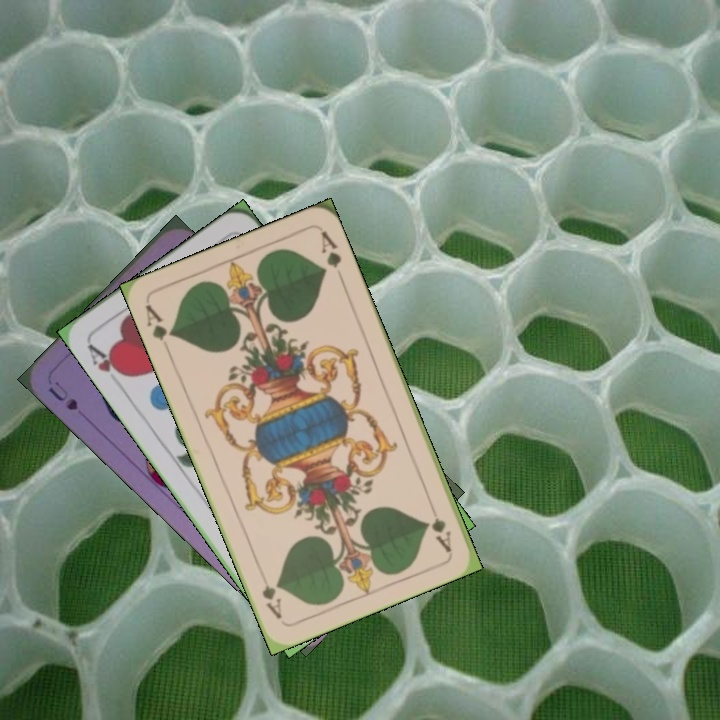GA: (424, 497, 454, 555), (141, 300, 177, 344)
HA: (83, 339, 131, 381)
SU: (44, 377, 81, 413)
